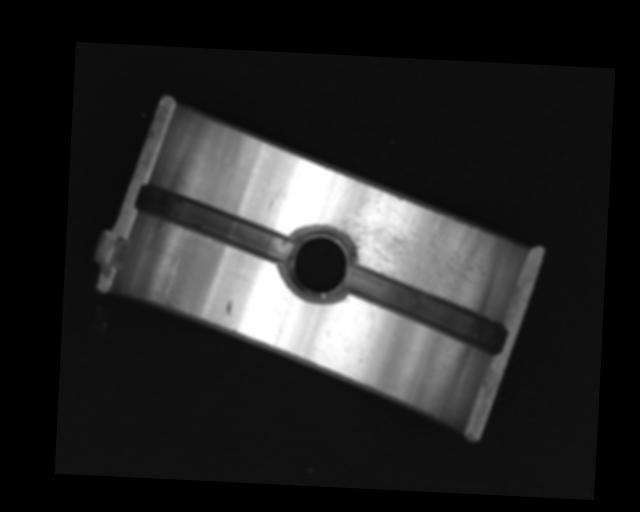bruise: (223, 298, 233, 315)
gap: (344, 267, 507, 356), (133, 182, 295, 261)
hole: (278, 223, 359, 306)
nick: (260, 185, 284, 225), (162, 256, 181, 302)
scratch: (319, 169, 494, 306)
